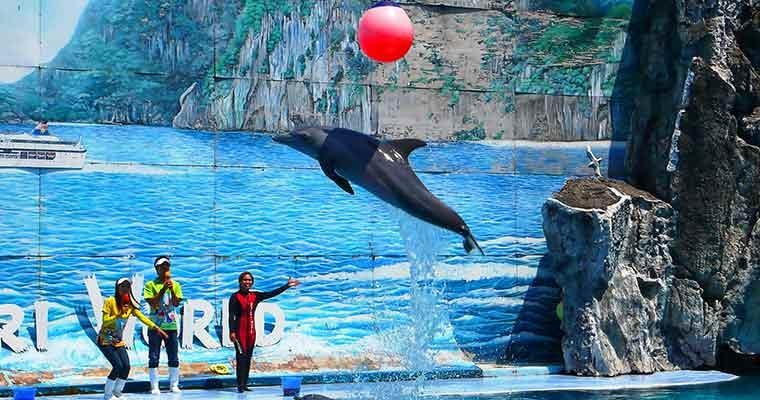fish: (265, 118, 493, 253)
